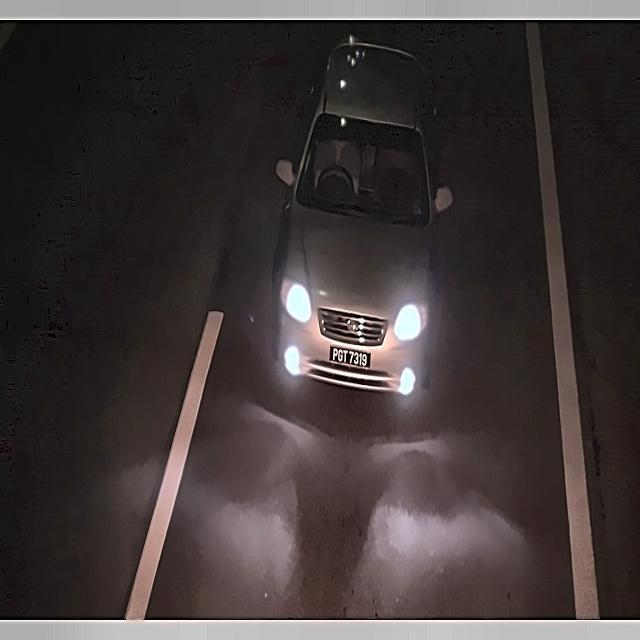car: (326, 339, 374, 372)
